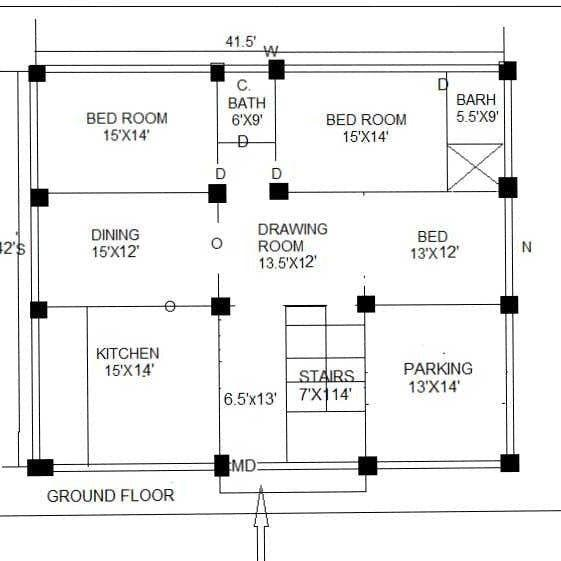Blueprint: (22, 57, 528, 482)
wall: (280, 62, 504, 75), (50, 460, 217, 475), (43, 62, 214, 76), (502, 310, 517, 458), (29, 313, 42, 462), (372, 458, 504, 471), (26, 78, 41, 192), (502, 194, 516, 300), (502, 76, 516, 179), (27, 204, 41, 304), (254, 460, 362, 472), (221, 63, 272, 74)
